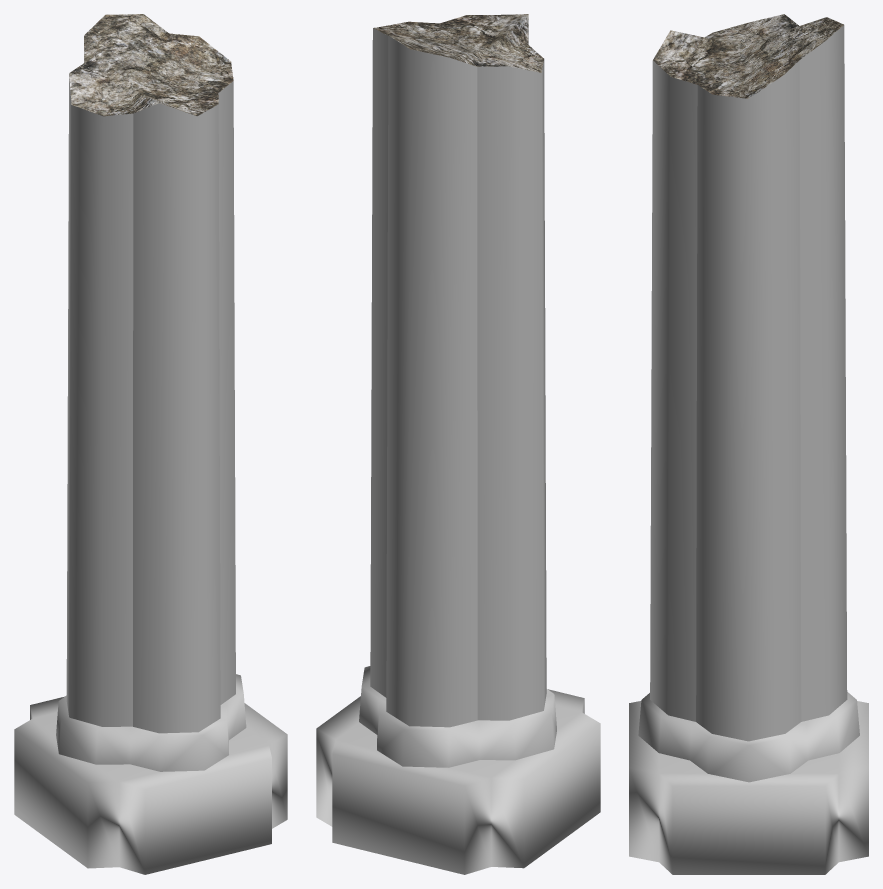
File: Ruins_17C_LOD1.fbx
3 views of the same model, side by side, from view 1: azimuth 30°, elevation 25°; view 2: azimuth 150°, elevation 25°; view 3: azimuth 270°, elevation 25° (orthographic). The views are drawn at different scales.
Visible parts, largest first — view 1: polySurface5390; view 2: polySurface5390; view 3: polySurface5390.
Boxes of the visible parts, x1,y1,x2,y2 form: polySurface5390: [14, 14, 287, 874]; polySurface5390: [316, 14, 600, 874]; polySurface5390: [629, 14, 868, 874].
Size of the model in its own units: 1.05 by 3.87 by 1.05.
